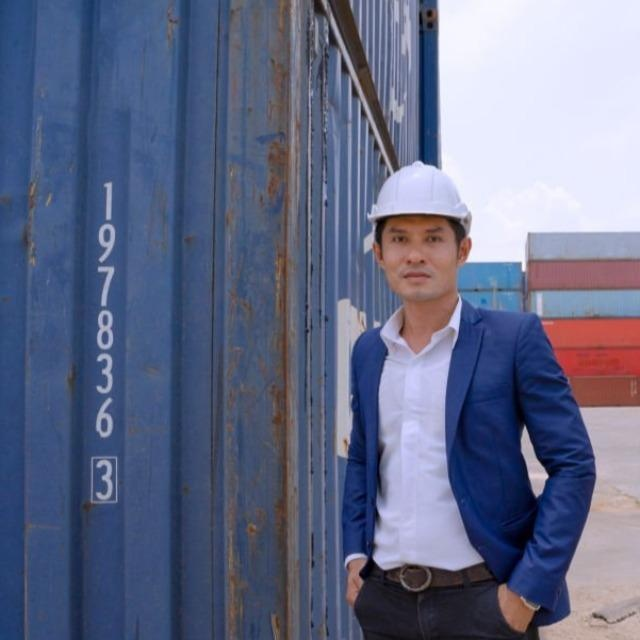Con_Casco: (369, 161, 477, 299)
Sin_Chaleco: (338, 296, 538, 588)
